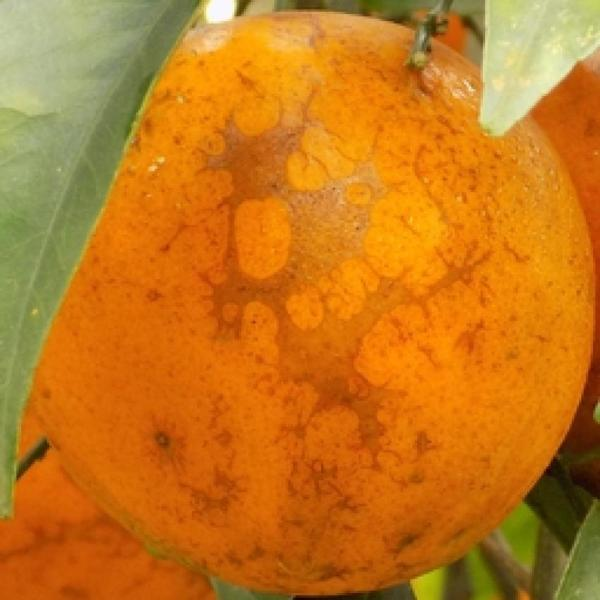Canker: (24, 0, 598, 584)
